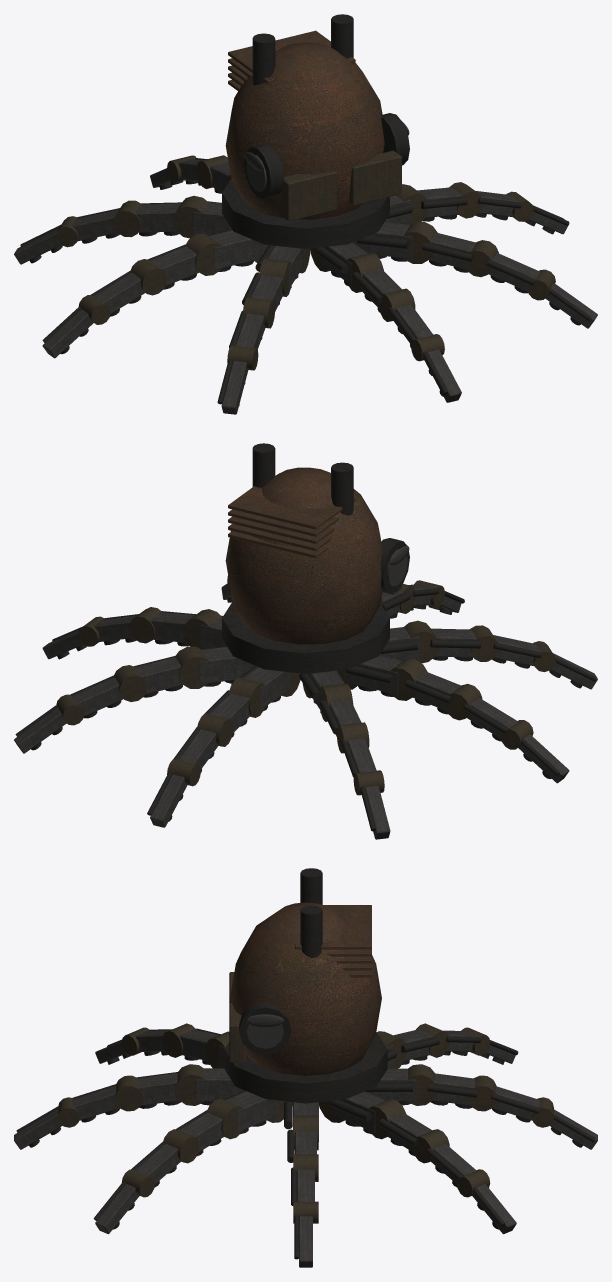
Rendered from wild-vinc-ahtapot.glb.
The picture shows the model from 3 angles, top to bottom: view 1: azimuth 30°, elevation 25°; view 2: azimuth 150°, elevation 25°; view 3: azimuth 270°, elevation 25°; orthographic projection. The views are drawn at different scales.
Visible parts, largest first — view 1: VincAhtapot__Head_Mesh, VincAhtapot__Body_Mesh, VincAhtapot__Arm7_1_Mesh, VincAhtapot__Arm4_1_Mesh, VincAhtapot__Arm4_2_Mesh, VincAhtapot__Arm3_1_Mesh, VincAhtapot__Arm7_2_Mesh, VincAhtapot__Arm4_3_Mesh, VincAhtapot__Arm3_2_Mesh, VincAhtapot__Arm0_1_Mesh, VincAhtapot__Arm5_3_Mesh, VincAhtapot__Arm6_1_Mesh (+16 smaller); view 2: VincAhtapot__Head_Mesh, VincAhtapot__Body_Mesh, VincAhtapot__Arm1_1_Mesh, VincAhtapot__Arm1_2_Mesh, VincAhtapot__Arm4_1_Mesh, VincAhtapot__Arm5_1_Mesh, VincAhtapot__Arm4_2_Mesh, VincAhtapot__Arm0_1_Mesh, VincAhtapot__Arm2_3_Mesh, VincAhtapot__Arm2_2_Mesh, VincAhtapot__Arm1_3_Mesh, VincAhtapot__Arm5_2_Mesh (+16 smaller); view 3: VincAhtapot__Head_Mesh, VincAhtapot__Body_Mesh, VincAhtapot__Arm2_1_Mesh, VincAhtapot__Arm6_1_Mesh, VincAhtapot__Arm6_2_Mesh, VincAhtapot__Arm7_2_Mesh, VincAhtapot__Arm7_1_Mesh, VincAhtapot__Arm2_2_Mesh, VincAhtapot__Arm1_1_Mesh, VincAhtapot__Arm7_3_Mesh, VincAhtapot__Arm1_2_Mesh, VincAhtapot__Arm1_0_Mesh (+16 smaller).
Boxes of the visible parts, x1,y1,x2,y2 form: VincAhtapot__Head_Mesh: [222, 42, 409, 248]; VincAhtapot__Body_Mesh: [228, 14, 355, 91]; VincAhtapot__Arm7_1_Mesh: [403, 221, 476, 272]; VincAhtapot__Arm4_1_Mesh: [147, 233, 221, 289]; VincAhtapot__Arm4_2_Mesh: [91, 259, 167, 316]; VincAhtapot__Arm3_1_Mesh: [135, 195, 207, 238]; VincAhtapot__Arm7_2_Mesh: [464, 240, 540, 293]; VincAhtapot__Arm4_3_Mesh: [42, 295, 110, 358]; VincAhtapot__Arm3_2_Mesh: [71, 200, 142, 243]; VincAhtapot__Arm0_1_Mesh: [396, 184, 467, 224]; VincAhtapot__Arm5_3_Mesh: [217, 345, 258, 414]; VincAhtapot__Arm6_1_Mesh: [347, 252, 401, 312]; VincAhtapot__Head_Mesh: [222, 467, 409, 673]; VincAhtapot__Body_Mesh: [228, 443, 355, 558]; VincAhtapot__Arm1_1_Mesh: [134, 646, 207, 697]; VincAhtapot__Arm1_2_Mesh: [70, 665, 147, 718]; VincAhtapot__Arm4_1_Mesh: [390, 658, 461, 714]; VincAhtapot__Arm5_1_Mesh: [404, 620, 480, 663]; VincAhtapot__Arm4_2_Mesh: [444, 683, 518, 741]; VincAhtapot__Arm0_1_Mesh: [150, 609, 221, 649]; VincAhtapot__Arm2_3_Mesh: [147, 759, 200, 827]; VincAhtapot__Arm2_2_Mesh: [173, 713, 233, 772]; VincAhtapot__Arm1_3_Mesh: [14, 694, 84, 753]; VincAhtapot__Arm5_2_Mesh: [469, 625, 541, 668]; VincAhtapot__Head_Mesh: [224, 902, 387, 1103]; VincAhtapot__Body_Mesh: [295, 868, 371, 977]; VincAhtapot__Arm2_1_Mesh: [407, 1064, 477, 1108]; VincAhtapot__Arm6_1_Mesh: [136, 1064, 204, 1108]; VincAhtapot__Arm6_2_Mesh: [72, 1075, 143, 1122]; VincAhtapot__Arm7_2_Mesh: [131, 1129, 199, 1187]; VincAhtapot__Arm7_1_Mesh: [176, 1098, 242, 1156]; VincAhtapot__Arm2_2_Mesh: [468, 1075, 539, 1122]; VincAhtapot__Arm1_1_Mesh: [369, 1098, 432, 1156]; VincAhtapot__Arm7_3_Mesh: [93, 1169, 154, 1234]; VincAhtapot__Arm1_2_Mesh: [412, 1129, 476, 1187]; VincAhtapot__Arm1_0_Mesh: [319, 1091, 385, 1134].
Size of the model in its own units: 16.44 by 7.94 by 16.44.
Materials: 6 (6 with a texture image).
